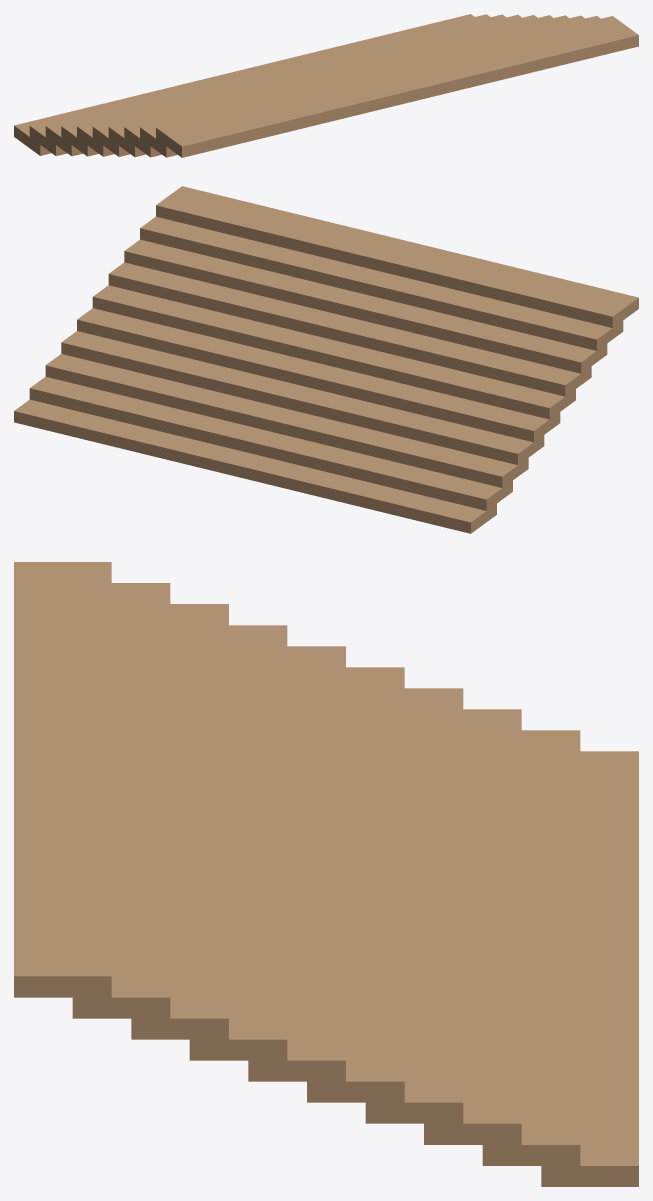
File: Stairs.fbx
The picture shows the model from 3 angles, top to bottom: view 1: azimuth 30°, elevation 25°; view 2: azimuth 150°, elevation 25°; view 3: azimuth 270°, elevation 25°; orthographic projection. The views are drawn at different scales.
Visible parts, largest first — view 1: Cube.009; view 2: Cube.009; view 3: Cube.009.
Part boxes in pixels (<box>): Cube.009: <box>14,14,638,157</box>; Cube.009: <box>14,186,638,533</box>; Cube.009: <box>14,562,638,1186</box>.
Bounding box in the file's own units: 2008 × 476 × 1280.
